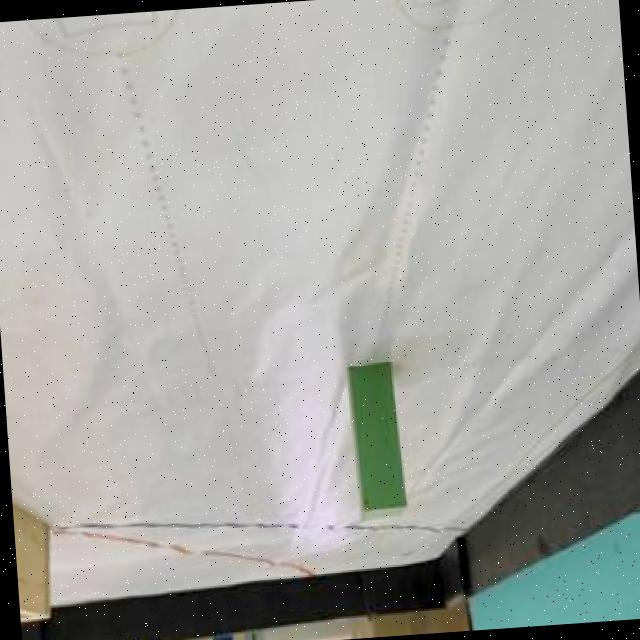greenbox: (349, 360, 410, 522)
